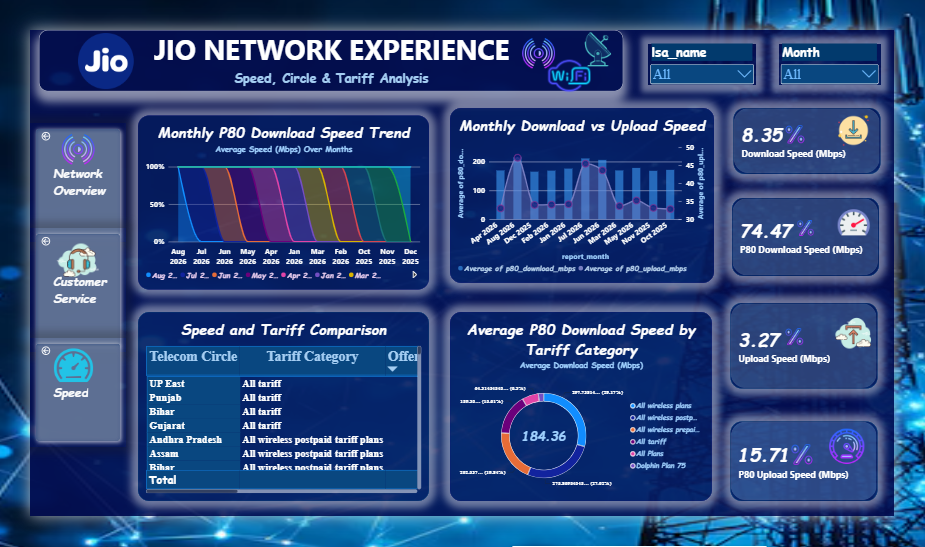

What the dashboard file says about the page in this screenshot:
{"tool":"powerbi","page":{"name":"Speed ,Circle & Tariff Analysis","canvas":[1920,1080],"ordinal":2},"visuals":[{"type":"slicer","fields":{"Values":["project fact_customer.lsa_name"]},"box":[1373.3,30,240,93.3],"z":0},{"type":"textbox","title":"JIO NETWORK EXPERIENCE","box":[19.8,0,1298.3,136.1],"z":1000},{"type":"cardVisual","fields":{"Data":["Avg(project fact_speed.p80_download_mbps)"]},"box":[1560.4,374.6,326.7,173.3],"z":2000},{"type":"cardVisual","fields":{"Data":["Avg(project fact_speed.offered_download_mbps)"]},"box":[1562.8,174.2,326.7,146.7],"z":3000},{"type":"cardVisual","fields":{"Data":["Avg(project fact_speed.offered_upload_mbps)"]},"box":[1558,606,326.7,190],"z":4000},{"type":"cardVisual","fields":{"Data":["Avg(project fact_speed.p80_upload_mbps)"]},"box":[1555.6,870.9,326.7,176.7],"z":5000},{"type":"hundredPercentStackedAreaChart","title":"Monthly P80 Download Speed Trend","fields":{"Category":["project fact_speed.report_month"],"Series":["project fact_speed.report_month"],"Y":["Avg(project fact_speed.p80_download_mbps)"]},"box":[238.6,190.9,646.7,386.7],"z":6000},{"type":"donutChart","title":"Average P80 Download Speed by Tariff Category","fields":{"Category":["project fact_speed.tariff_name"],"Y":["Avg(project fact_speed.p80_download_mbps)"]},"box":[932.9,627.5,582.2,419.9],"z":7000},{"type":"lineClusteredColumnComboChart","title":"Monthly Download vs Upload Speed","fields":{"Category":["project fact_speed.report_month"],"Y":["Avg(project fact_speed.p80_download_mbps)"],"Y2":["Avg(project fact_speed.p80_upload_mbps)"]},"box":[932.9,174.2,586.9,388.9],"z":8000},{"type":"tableEx","title":"Speed and Tariff Comparison","fields":{"Values":["project fact_speed.lsa_name","project fact_speed.tariff_name","Avg(project fact_speed.offered_download_mbps)","Avg(project fact_speed.offered_upload_mbps)","Avg(project fact_speed.p80_download_mbps)","Avg(project fact_speed.p80_upload_mbps)"]},"box":[238.6,627.5,646.7,420],"z":9000},{"type":"slicer","fields":{"Values":["DimDate.Date.Variation.Date Hierarchy.Month"]},"box":[1663,31,226.7,93.3],"z":10000},{"type":"image","box":[100,7.5,137.3,124.5],"z":11000},{"type":"image","box":[1140,46.7,116.7,110],"z":12000},{"type":"image","box":[1060,6.7,140,90],"z":13000},{"type":"image","box":[1200,0,123.3,86.7],"z":14000},{"type":"actionButton","box":[0,206.7,213.3,263.3],"z":15000},{"type":"actionButton","box":[0,440,213.3,276.7],"z":16000},{"type":"actionButton","box":[0,683.3,213.3,243.3],"z":17000},{"type":"image","box":[36.7,220,140,90],"z":18000},{"type":"image","box":[43.3,460,123.3,103.3],"z":19000},{"type":"image","box":[26.7,696.7,140,100],"z":20000},{"type":"image","box":[1770.4,178.9,120,86.7],"z":21000},{"type":"image","box":[1770.4,384.1,120,90],"z":22000},{"type":"image","box":[1746.5,627.5,163.3,96.7],"z":23000},{"type":"image","box":[1741.7,875.6,143.3,96.7],"z":24000},{"type":"image","box":[1698.8,396.1,46.7,86.7],"z":25000},{"type":"image","box":[1672.5,913.8,83.3,60],"z":26000},{"type":"image","box":[1672.5,644.2,50,76.7],"z":27000},{"type":"image","box":[1672.5,200.4,53.3,63.3],"z":28000}]}

Visuals, with their boxes on the page's 1920x1080 design canvas (x1, y1, x2, y2). These are canvas units, not pixel positions in the 925x547 screenshot, which may show the page scaled, cropped or inside an application window:
slicer - project fact_customer.lsa_name: left=1373, top=30, right=1613, bottom=123
"JIO NETWORK EXPERIENCE" textbox: left=20, top=0, right=1318, bottom=136
cardVisual - Avg(project fact_speed.p80_download_mbps): left=1560, top=375, right=1887, bottom=548
cardVisual - Avg(project fact_speed.offered_download_mbps): left=1563, top=174, right=1890, bottom=321
cardVisual - Avg(project fact_speed.offered_upload_mbps): left=1558, top=606, right=1885, bottom=796
cardVisual - Avg(project fact_speed.p80_upload_mbps): left=1556, top=871, right=1882, bottom=1048
"Monthly P80 Download Speed Trend" hundredPercentStackedAreaChart: left=239, top=191, right=885, bottom=578
"Average P80 Download Speed by Tariff Category" donutChart: left=933, top=628, right=1515, bottom=1047
"Monthly Download vs Upload Speed" lineClusteredColumnComboChart: left=933, top=174, right=1520, bottom=563
"Speed and Tariff Comparison" tableEx: left=239, top=628, right=885, bottom=1048
slicer - DimDate.Date.Variation.Date Hierarchy.Month: left=1663, top=31, right=1890, bottom=124
image: left=100, top=8, right=237, bottom=132
image: left=1140, top=47, right=1257, bottom=157
image: left=1060, top=7, right=1200, bottom=97
image: left=1200, top=0, right=1323, bottom=87
actionButton: left=0, top=207, right=213, bottom=470
actionButton: left=0, top=440, right=213, bottom=717
actionButton: left=0, top=683, right=213, bottom=927
image: left=37, top=220, right=177, bottom=310
image: left=43, top=460, right=167, bottom=563
image: left=27, top=697, right=167, bottom=797
image: left=1770, top=179, right=1890, bottom=266
image: left=1770, top=384, right=1890, bottom=474
image: left=1746, top=628, right=1910, bottom=724
image: left=1742, top=876, right=1885, bottom=972
image: left=1699, top=396, right=1746, bottom=483
image: left=1672, top=914, right=1756, bottom=974
image: left=1672, top=644, right=1722, bottom=721
image: left=1672, top=200, right=1726, bottom=264
